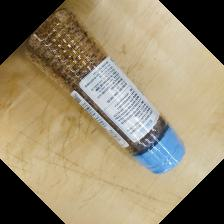TayNinh_blue: (23, 7, 186, 175)
